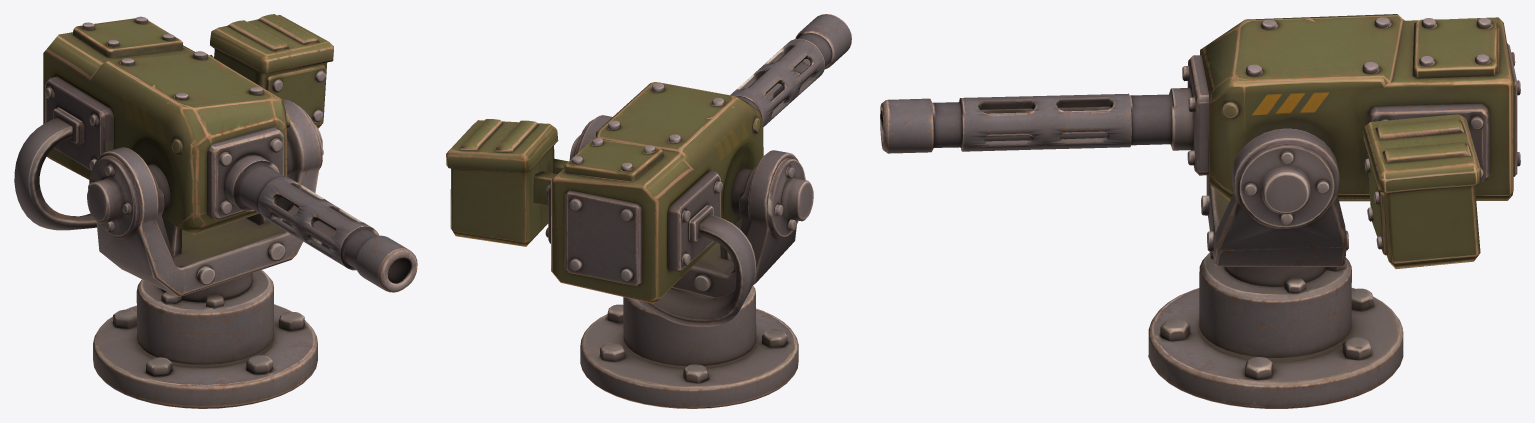
Rendered from turret.fbx.
The picture shows the model from 3 angles, left to right: view 1: azimuth 30°, elevation 25°; view 2: azimuth 150°, elevation 25°; view 3: azimuth 270°, elevation 25°; orthographic projection. The views are drawn at different scales.
Visible parts, largest first — view 1: tripo_2eeb8cd4_3b1e_471c_b3cf_e37dcc7c7846; view 2: tripo_2eeb8cd4_3b1e_471c_b3cf_e37dcc7c7846; view 3: tripo_2eeb8cd4_3b1e_471c_b3cf_e37dcc7c7846.
Part boxes in pixels (x1,y1,x2,y2): tripo_2eeb8cd4_3b1e_471c_b3cf_e37dcc7c7846: (14,14,417,408); tripo_2eeb8cd4_3b1e_471c_b3cf_e37dcc7c7846: (446,14,851,408); tripo_2eeb8cd4_3b1e_471c_b3cf_e37dcc7c7846: (880,14,1520,408).
Size of the model in its own units: 203 by 180 by 325.
1 material, 1 textured.
